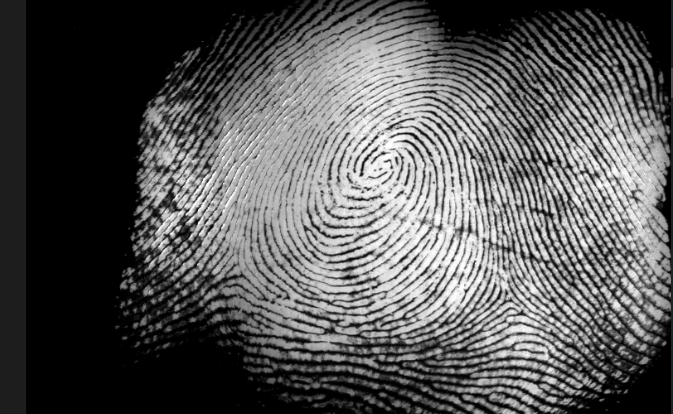nucelo: (360, 149, 399, 176)
verticilo: (494, 285, 524, 311), (223, 254, 251, 280)
